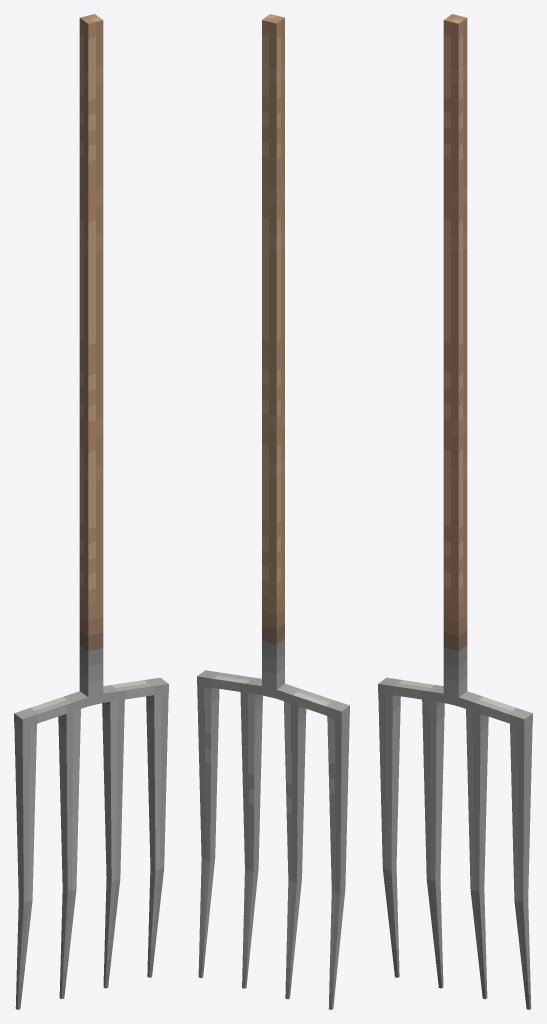
Rendered from Pitchfork.fbx.
3 renders of one model, left to right at view 1: azimuth 30°, elevation 25°; view 2: azimuth 150°, elevation 25°; view 3: azimuth 330°, elevation 25°, orthographic.
Parts seen in each view (by area): view 1: handle, point4, point3, point2, point1; view 2: handle, point4, point3, point2, point1; view 3: handle, point3, point4, point1, point2.
Boxes of the visible parts, x1,y1,x2,y2 form: handle: [14, 14, 168, 728]; point4: [102, 699, 124, 988]; point3: [58, 709, 80, 999]; point2: [14, 723, 36, 1009]; point1: [146, 693, 168, 977]; handle: [197, 14, 349, 720]; point4: [240, 692, 262, 988]; point3: [284, 701, 306, 999]; point2: [327, 715, 349, 1009]; point1: [197, 685, 219, 977]; handle: [378, 14, 532, 728]; point3: [422, 699, 444, 988]; point4: [466, 709, 488, 999]; point1: [510, 723, 532, 1009]; point2: [378, 693, 400, 977].
Bounding box in the file's own units: 31.25 × 200 × 4.69.
1 material, 1 textured.
